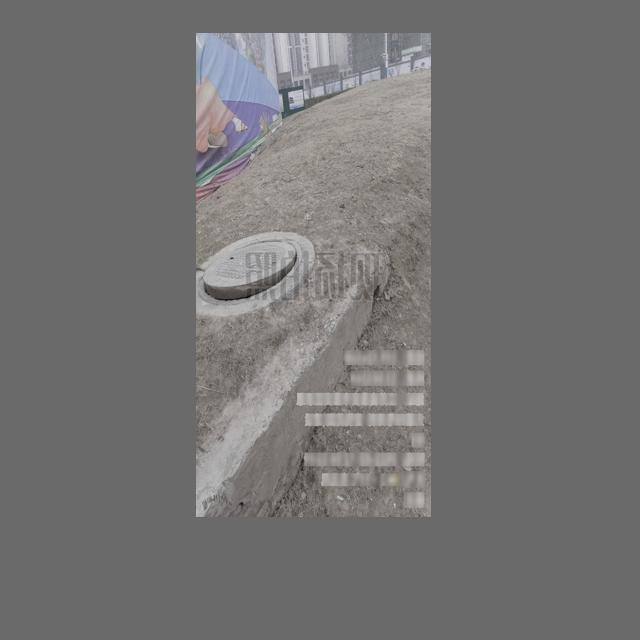uncovered: (199, 238, 305, 306)
